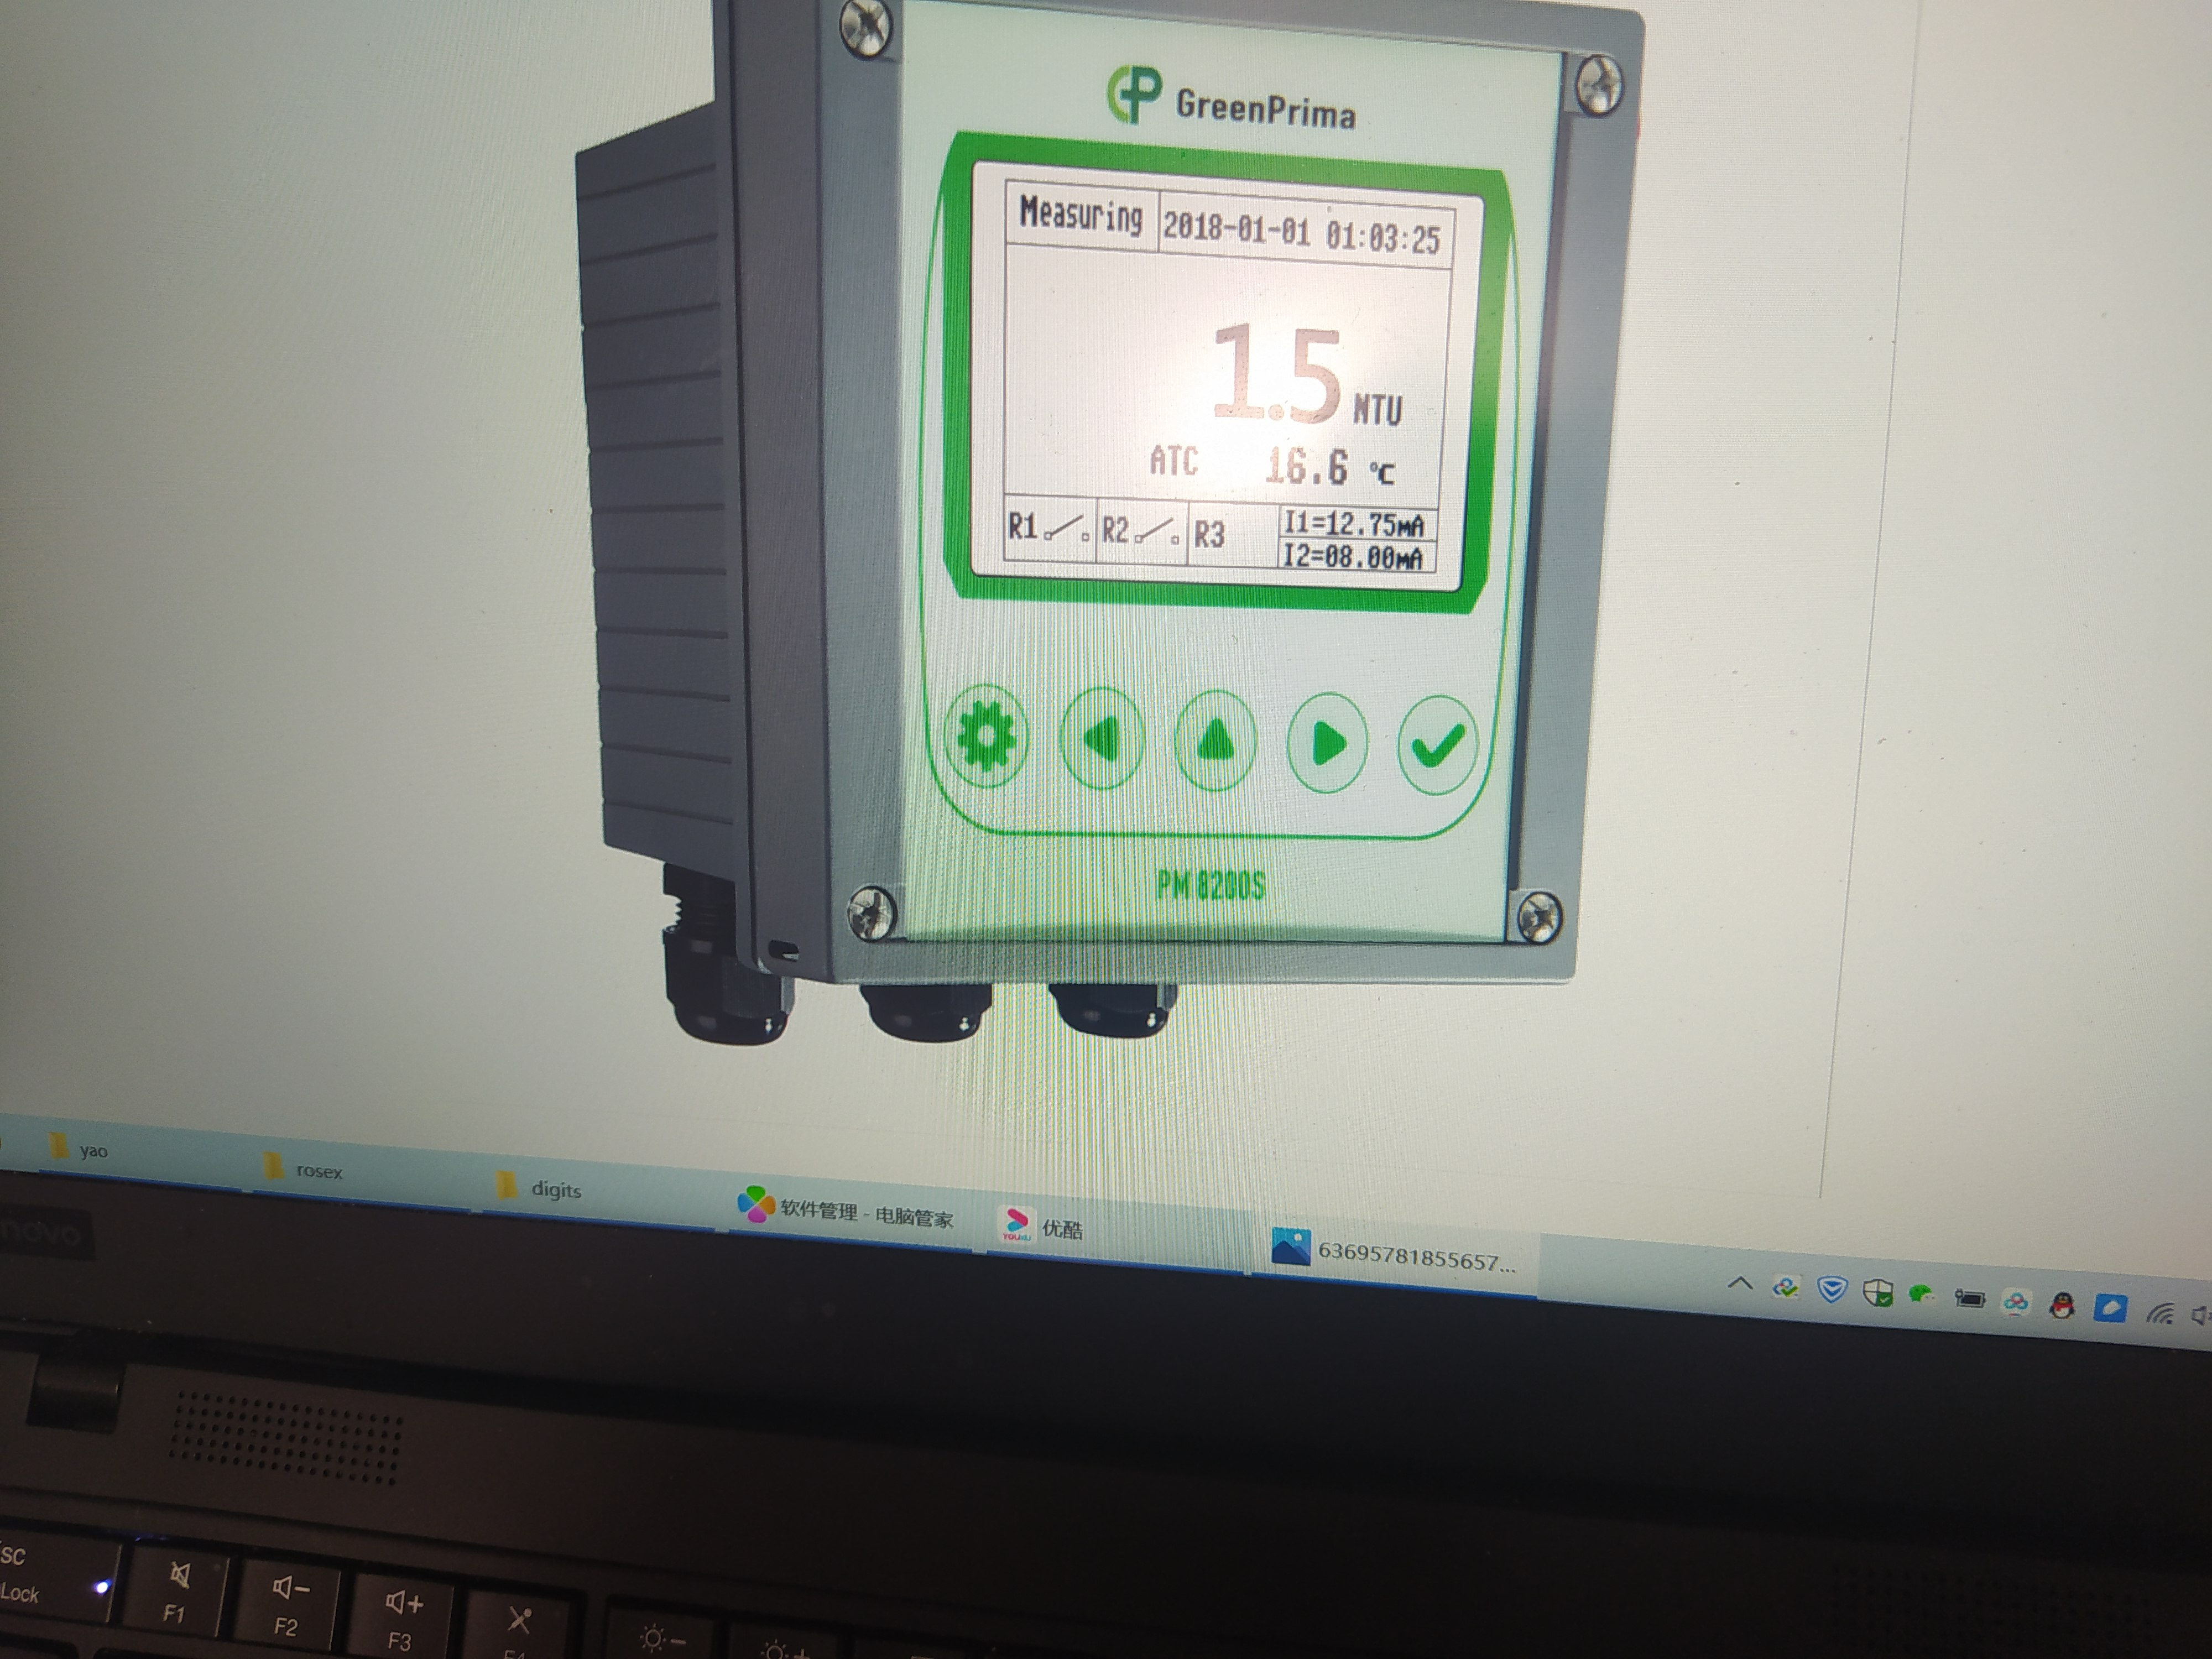.: (1268, 321, 1284, 420), (1313, 444, 1320, 484), (1357, 511, 1364, 535), (1357, 545, 1362, 568)
0: (1327, 221, 1341, 249), (1238, 870, 1251, 901), (1179, 213, 1193, 239), (1224, 870, 1237, 899), (1284, 216, 1296, 244), (1371, 223, 1383, 251), (1240, 214, 1252, 240), (1325, 544, 1338, 568), (1367, 545, 1379, 568), (1383, 545, 1393, 568)
1: (1214, 322, 1264, 420), (1264, 446, 1285, 484), (1252, 216, 1268, 244), (1298, 218, 1312, 247), (1195, 213, 1209, 240), (1024, 512, 1038, 538), (1343, 223, 1357, 249), (1325, 511, 1339, 535), (1298, 509, 1310, 533), (176, 1605, 186, 1626), (1409, 1249, 1418, 1265)
2: (1413, 225, 1426, 254), (1163, 211, 1177, 239), (1211, 870, 1223, 901), (1115, 516, 1129, 542), (1341, 511, 1355, 535), (1298, 542, 1310, 568), (286, 1619, 298, 1636)
3: (1211, 519, 1224, 549), (1385, 223, 1399, 253), (399, 1633, 413, 1652), (1331, 1243, 1343, 1258)
5: (1289, 329, 1341, 423), (1426, 225, 1440, 254), (1383, 512, 1397, 537), (1447, 1251, 1460, 1269), (1474, 1253, 1486, 1270), (1369, 1246, 1381, 1262), (1435, 1251, 1446, 1267)
6: (1287, 446, 1306, 484), (1329, 450, 1348, 486), (1460, 1253, 1474, 1269), (1345, 1243, 1357, 1260), (1318, 1243, 1331, 1258)
7: (1369, 512, 1381, 537), (1486, 1255, 1500, 1272), (1381, 1246, 1395, 1262)
8: (1195, 870, 1211, 901), (1209, 213, 1223, 240), (1339, 545, 1352, 568), (1395, 1248, 1409, 1263), (1421, 1249, 1433, 1267)
9: (1357, 1244, 1369, 1262)
